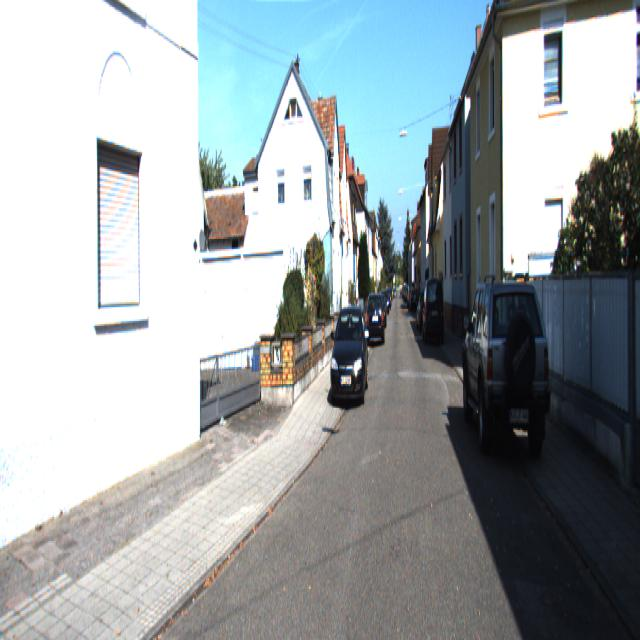Car: (460, 263, 552, 462), (329, 300, 368, 403), (424, 277, 444, 346), (368, 292, 385, 348)
